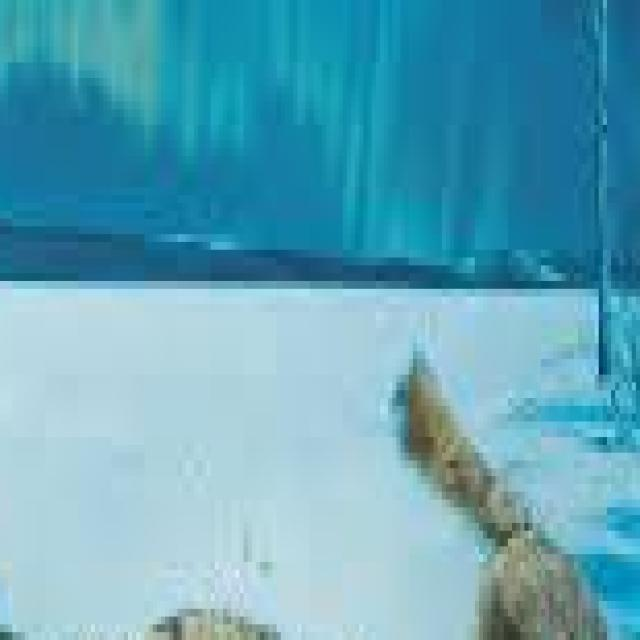wolf: (384, 343, 640, 640), (0, 491, 392, 640)
